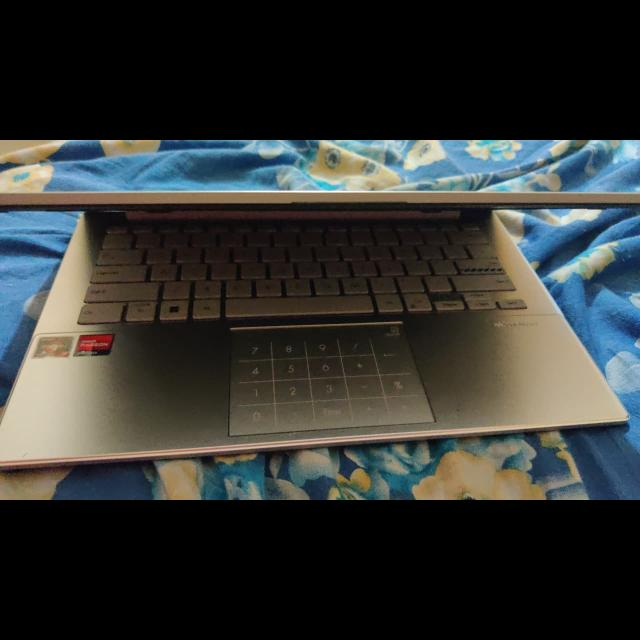laptop: (1, 179, 640, 465)
